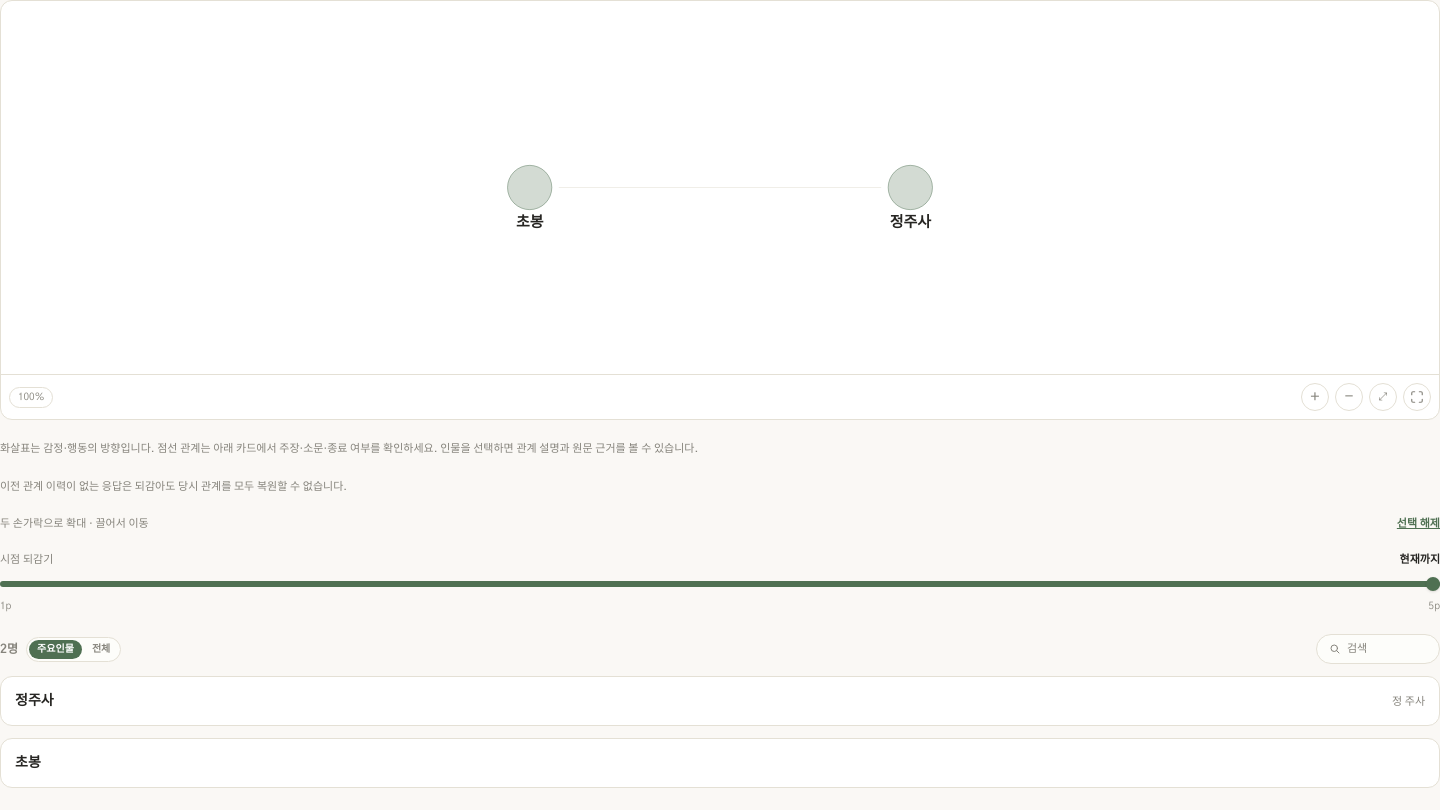
Scenario: RelationshipTab › 인물 검색 › 검색 결과를 선택하면 그 인물이 포커스(선택)된다 — 관계 라벨이 카드에 나온다
Type "정주사" into the field named "인물 검색".
click(1387, 649); type("정주사")  # box [1347,641,1427,657]
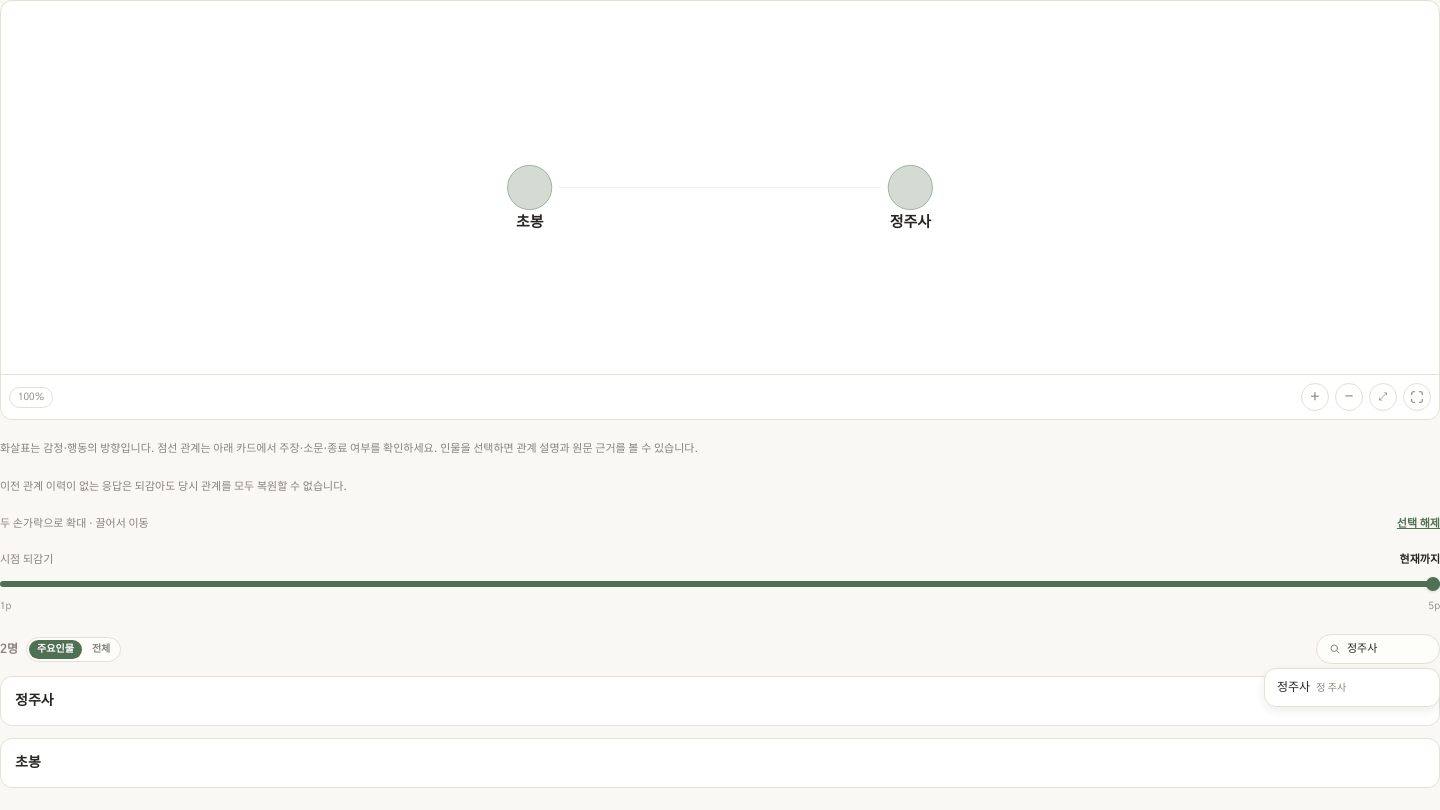
Click the button "정주사".
click(1352, 688)  # box [1265,673,1439,702]
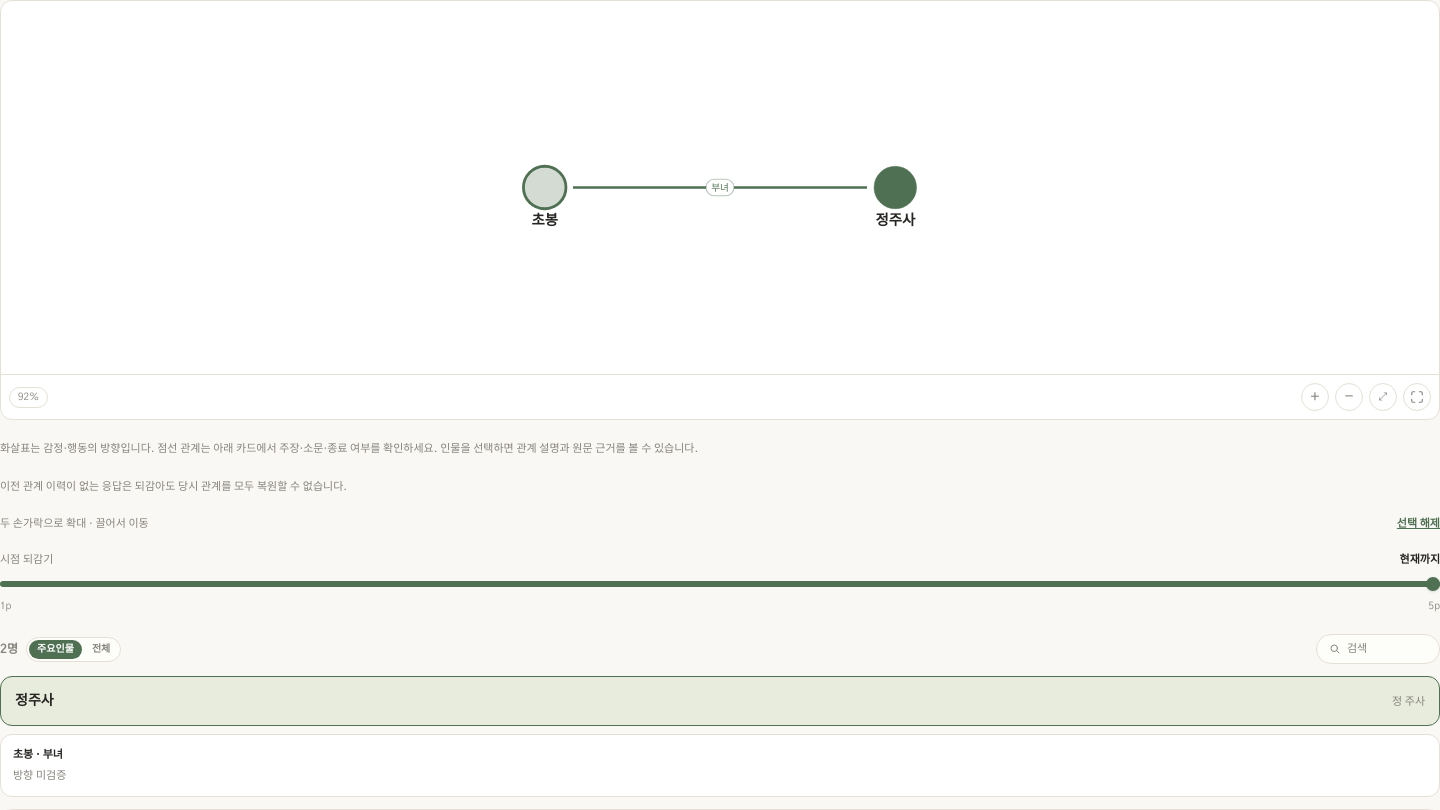
Expected: the text "부녀" is shown, [43,749,63,760]
